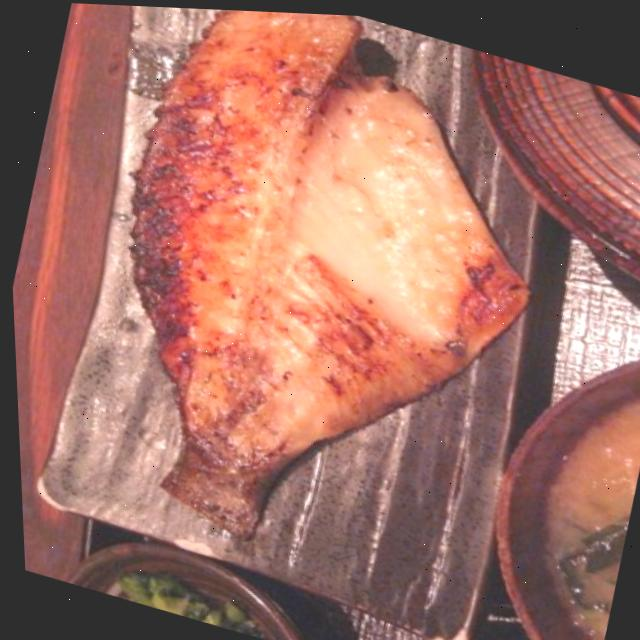熟制海鲜: (45, 2, 595, 609)
